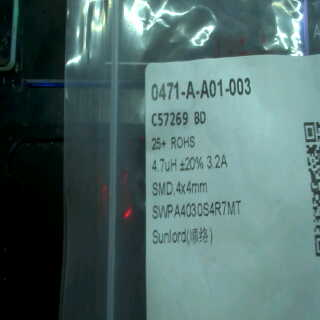4.7uH: (150, 154, 177, 175)
